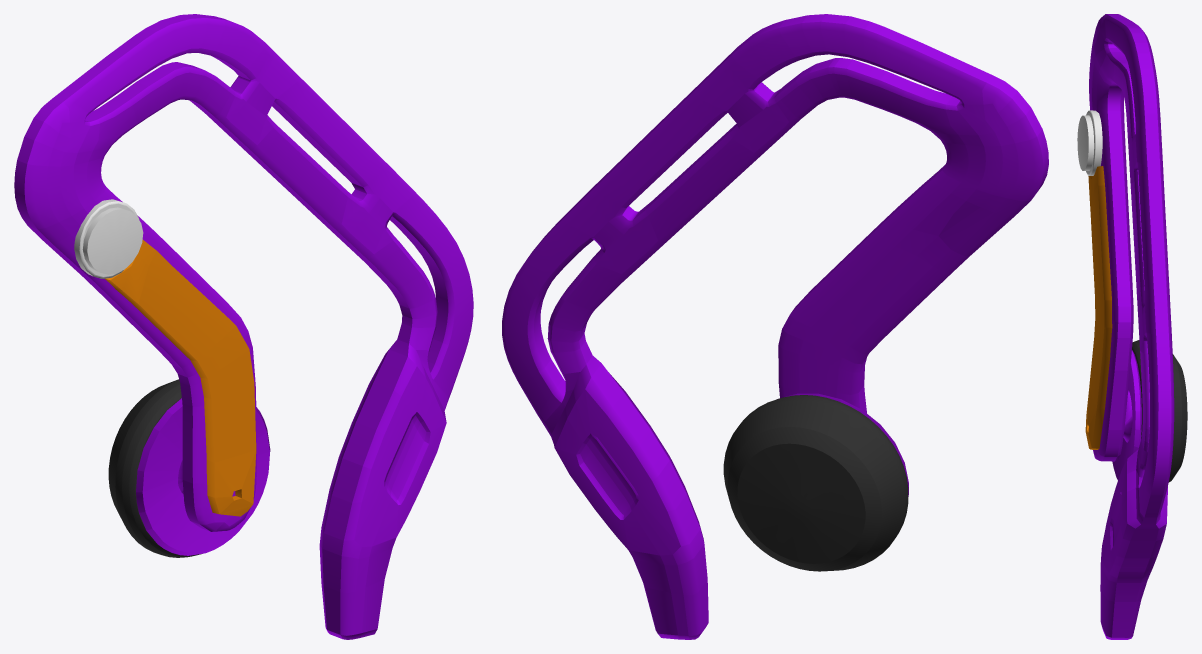
File: bluetooth.fbx
3 views of the same model, side by side, from view 1: azimuth 30°, elevation 25°; view 2: azimuth 150°, elevation 25°; view 3: azimuth 270°, elevation 25° (orthographic). The views are drawn at different scales.
Parts seen in each view (by area): view 1: _earphone_buds_with_over_ear_attachment_v1_l3:over_ear_headp (×4); view 2: _earphone_buds_with_over_ear_attachment_v1_l3:over_ear_headp (×2); view 3: _earphone_buds_with_over_ear_attachment_v1_l3:over_ear_headp (×4).
Boxes of the visible parts, x1,y1,x2,y2 form: _earphone_buds_with_over_ear_attachment_v1_l3:over_ear_headp (×4): [14, 14, 473, 639]; _earphone_buds_with_over_ear_attachment_v1_l3:over_ear_headp (×2): [502, 14, 1048, 639]; _earphone_buds_with_over_ear_attachment_v1_l3:over_ear_headp (×4): [1077, 14, 1187, 639].
Bounding box in the file's own units: 6.55 × 8.28 × 1.55.
